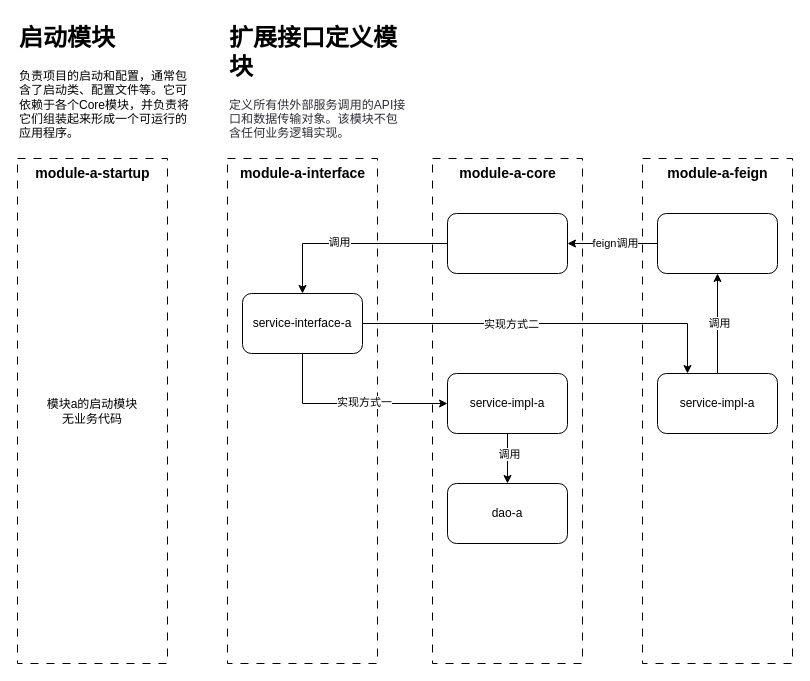
Image size: 810x681. Some labels were removed from this diagram. Here are the shapes that lost their labels. From the top down, the box of each, then its label:
(446, 212, 568, 274): controller-a
(656, 212, 778, 274): feign-a
